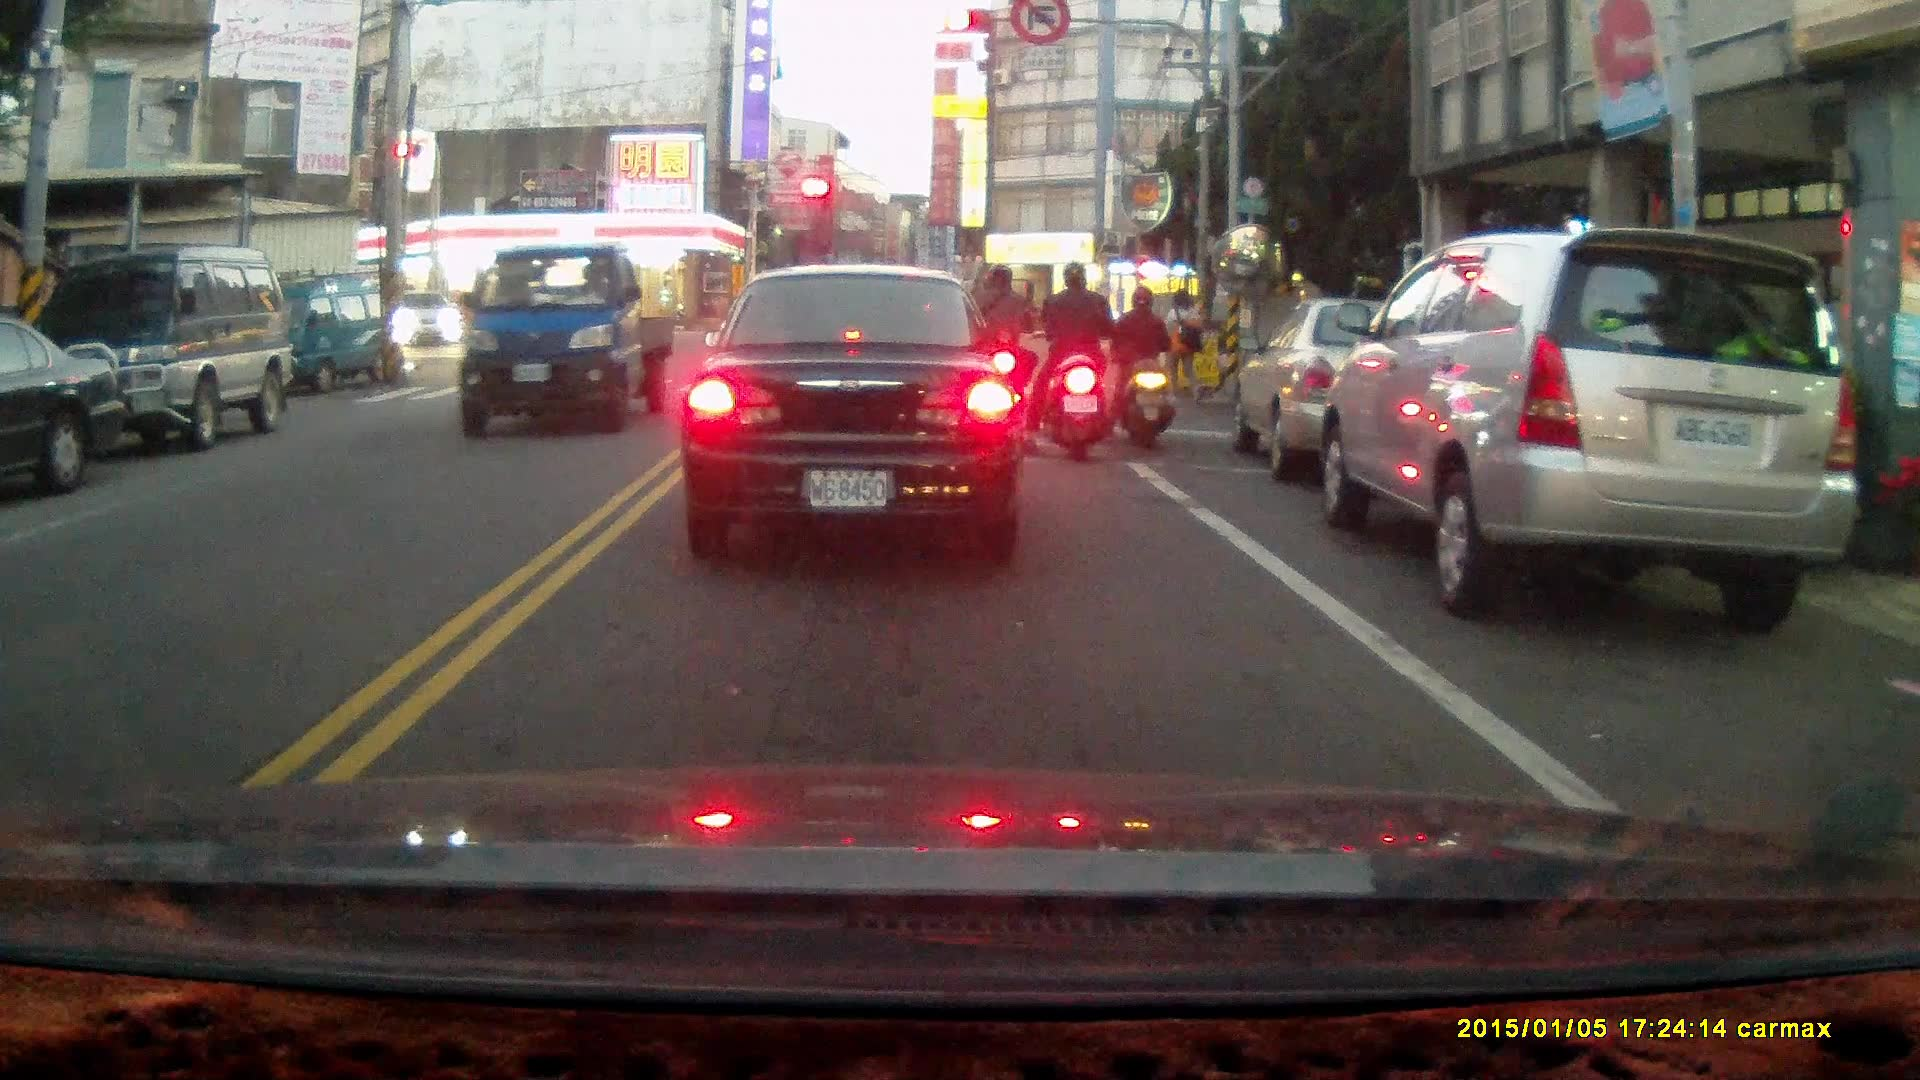pedestrian: (1157, 287, 1207, 408)
rider: (1027, 261, 1123, 460), (964, 263, 1035, 438), (1110, 282, 1176, 448)
vehicle: (1317, 226, 1865, 628), (679, 261, 1026, 558), (22, 239, 288, 456), (1234, 300, 1498, 490), (460, 246, 675, 432), (1, 317, 131, 500), (255, 271, 414, 401)
